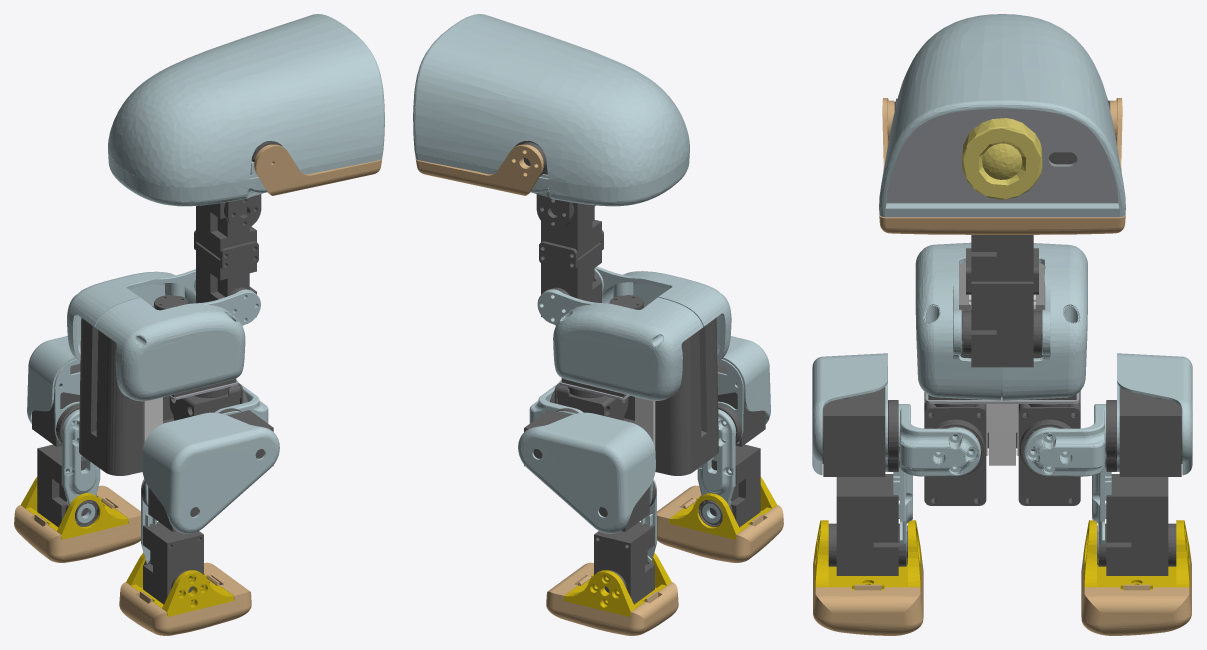
File: microduck.glb
3 renders of one model, left to right at view 1: azimuth 30°, elevation 25°; view 2: azimuth 150°, elevation 25°; view 3: azimuth 270°, elevation 25°, orthographic. The views are drawn at different scales.
Parts seen in each view (by area): view 1: jaw_soft__top_head_shell.stl, trunk_base__right_shell.stl, upper_leg_right__upper_leg_right.stl, trunk_base__np_f970.stl, trunk_base__left_shell.stl, jaw_soft__bottom_head_shell.stl, leg_2__xl330.stl, jaw_soft__jaw.stl, ankle_right__ankle_right.stl, leg__leg.stl, upper_leg_left__upper_leg_left.stl, ankle_left__sole_left.stl (+15 smaller); view 2: jaw_soft__top_head_shell.stl, trunk_base__left_shell.stl, upper_leg_left__upper_leg_left.stl, trunk_base__np_f970.stl, trunk_base__right_shell.stl, jaw_soft__bottom_head_shell.stl, leg__xl330.stl, jaw_soft__jaw.stl, neck, ankle_left__ankle_left.stl, leg_2__leg.stl, upper_leg_right__upper_leg_right.stl (+14 smaller); view 3: jaw_soft__top_head_shell.stl, jaw_soft__face_part.stl, trunk_base__left_shell.stl, trunk_base__right_shell.stl, leg__xl330.stl, leg_2__xl330.stl, neck__xl330.stl, jaw_soft__jaw.stl, upper_leg_right, upper_leg_left, jaw_soft__noenoeil.stl, hip_l__hip_l.stl (+24 smaller).
Boxes of the visible parts, bbox=[...] form: jaw_soft__top_head_shell.stl: bbox=[108, 14, 384, 187]; trunk_base__right_shell.stl: bbox=[95, 289, 260, 401]; upper_leg_right__upper_leg_right.stl: bbox=[142, 412, 279, 533]; trunk_base__np_f970.stl: bbox=[79, 318, 142, 475]; trunk_base__left_shell.stl: bbox=[67, 269, 195, 362]; jaw_soft__bottom_head_shell.stl: bbox=[108, 151, 383, 206]; leg_2__xl330.stl: bbox=[143, 522, 203, 604]; jaw_soft__jaw.stl: bbox=[254, 144, 382, 195]; ankle_right__ankle_right.stl: bbox=[126, 553, 234, 616]; leg__leg.stl: bbox=[61, 409, 100, 522]; upper_leg_left__upper_leg_left.stl: bbox=[27, 336, 75, 423]; ankle_left__sole_left.stl: bbox=[14, 519, 140, 562]; jaw_soft__top_head_shell.stl: bbox=[413, 14, 689, 187]; trunk_base__left_shell.stl: bbox=[537, 289, 703, 400]; upper_leg_left__upper_leg_left.stl: bbox=[518, 412, 655, 533]; trunk_base__np_f970.stl: bbox=[655, 317, 718, 475]; trunk_base__right_shell.stl: bbox=[594, 266, 731, 362]; jaw_soft__bottom_head_shell.stl: bbox=[414, 150, 689, 206]; leg__xl330.stl: bbox=[594, 522, 654, 604]; jaw_soft__jaw.stl: bbox=[415, 144, 543, 195]; neck: bbox=[539, 202, 601, 270]; ankle_left__ankle_left.stl: bbox=[563, 553, 671, 616]; leg_2__leg.stl: bbox=[697, 409, 736, 522]; upper_leg_right__upper_leg_right.stl: bbox=[722, 336, 770, 423]; jaw_soft__top_head_shell.stl: bbox=[879, 14, 1125, 208]; jaw_soft__face_part.stl: bbox=[886, 109, 1118, 203]; trunk_base__left_shell.stl: bbox=[1001, 243, 1087, 400]; trunk_base__right_shell.stl: bbox=[915, 242, 1000, 400]; leg__xl330.stl: bbox=[1098, 474, 1176, 575]; leg_2__xl330.stl: bbox=[828, 474, 906, 575]; neck__xl330.stl: bbox=[963, 281, 1041, 367]; jaw_soft__jaw.stl: bbox=[879, 98, 1125, 234]; upper_leg_right: bbox=[822, 387, 885, 464]; upper_leg_left: bbox=[1119, 387, 1182, 464]; jaw_soft__noenoeil.stl: bbox=[962, 118, 1042, 199]; hip_l__hip_l.stl: bbox=[1024, 404, 1106, 476].
Size of the model in its own units: 0.1441 by 0.264 by 0.141.
